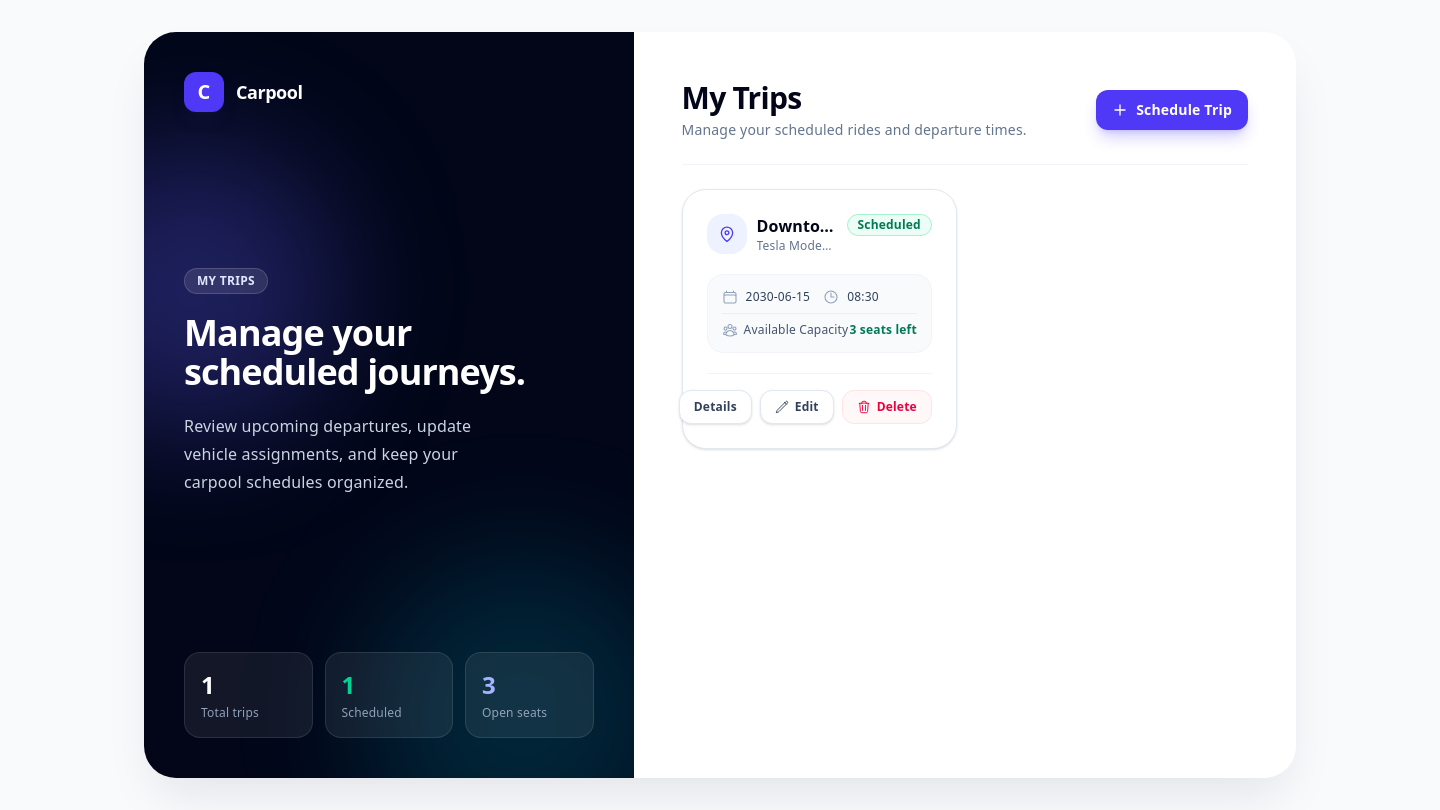
Test case: TripsPage › opens DeleteTripModal on delete click and cancels cleanly
Click the button with aria-label "delete trip downtown express" at (887, 407), box [842,390,932,424]
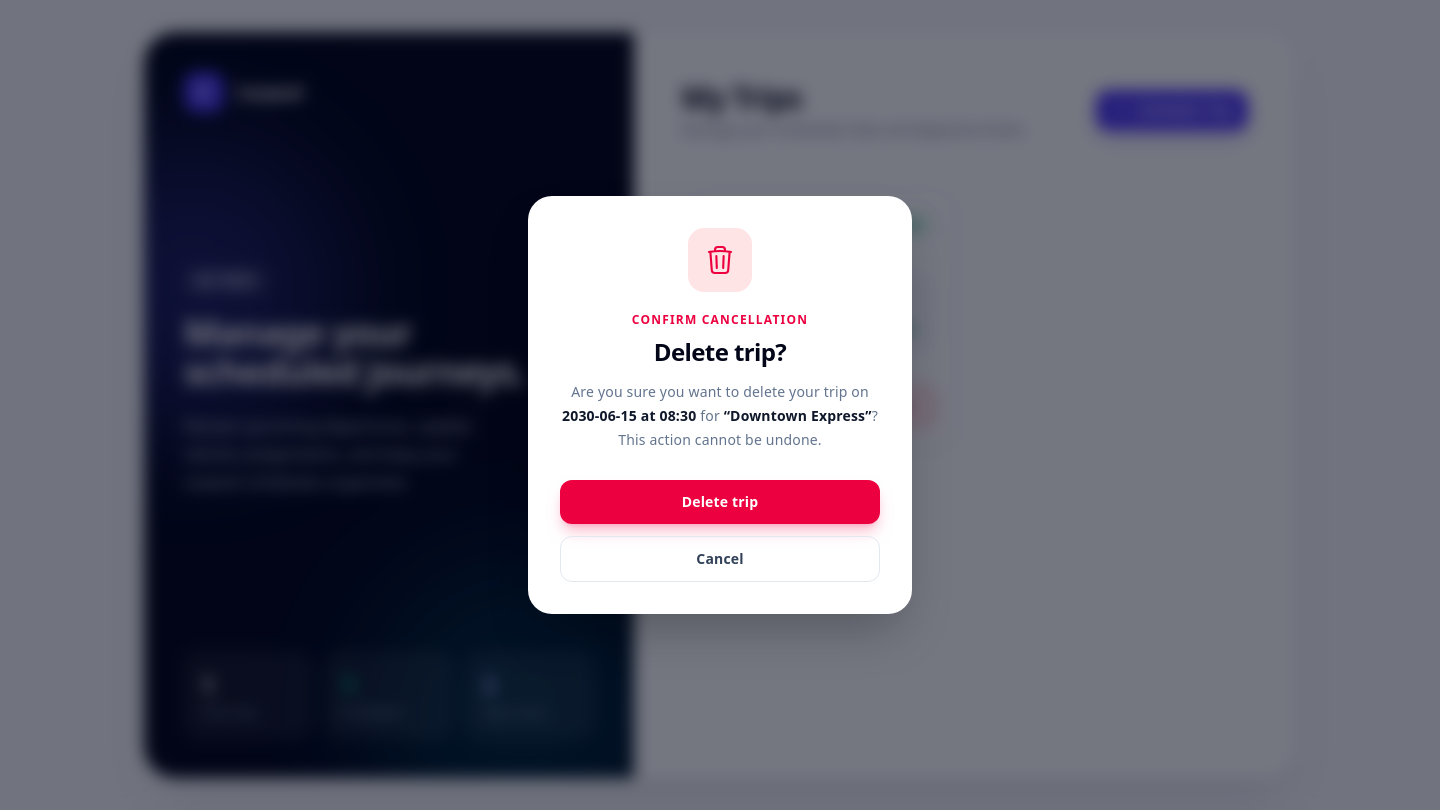
Expected: the dialog is shown
Expected: the heading "Delete trip?" is shown, [654,335,786,368]
Cancel deletion
Click the button "Cancel" at (720, 559), box [560,536,880,582]
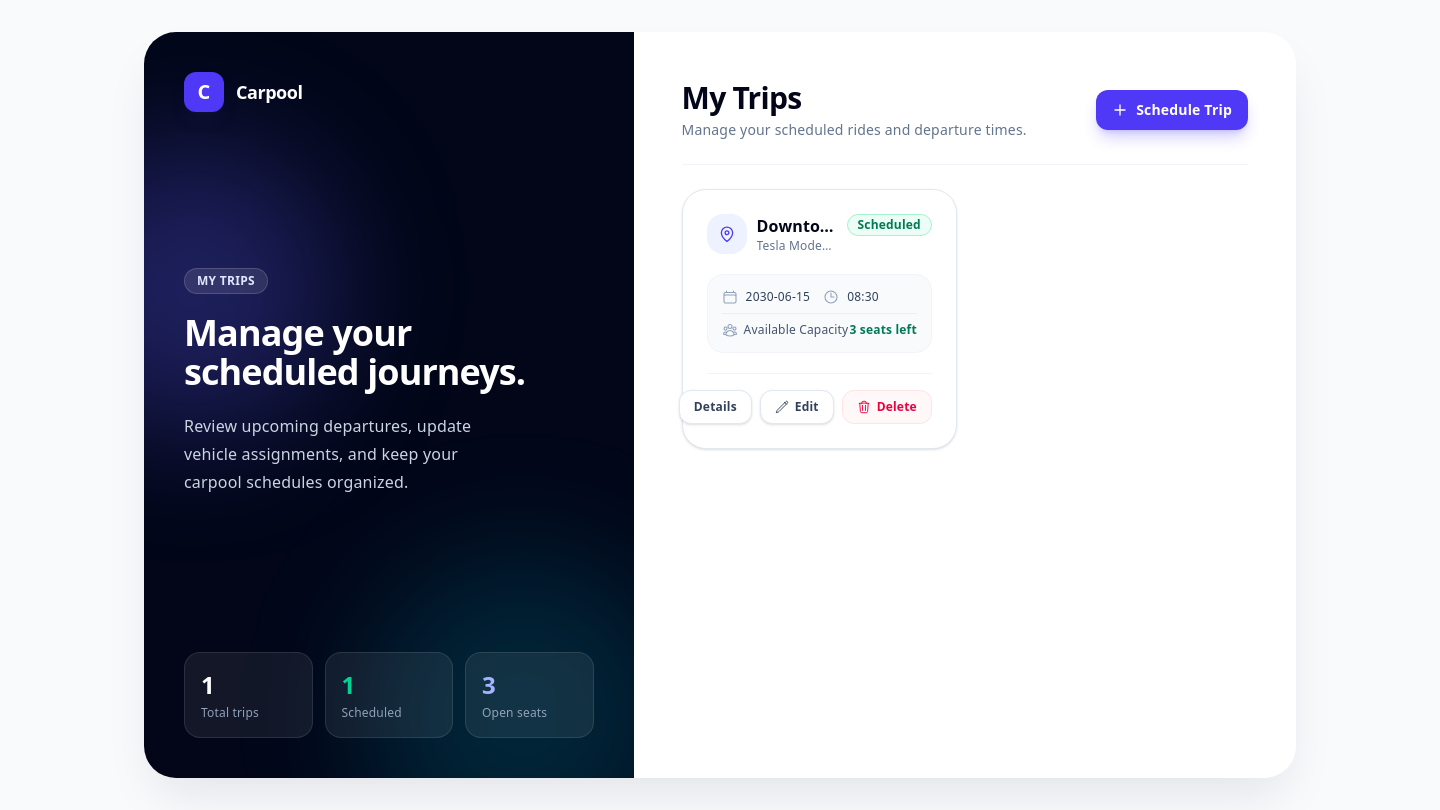
Expected: the dialog is gone
